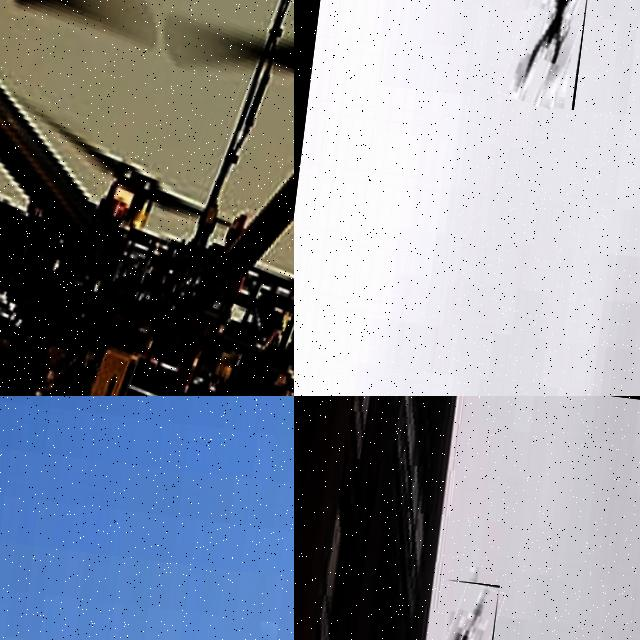0: (503, 0, 590, 109), (428, 579, 499, 640)
drone: (0, 0, 294, 396)
